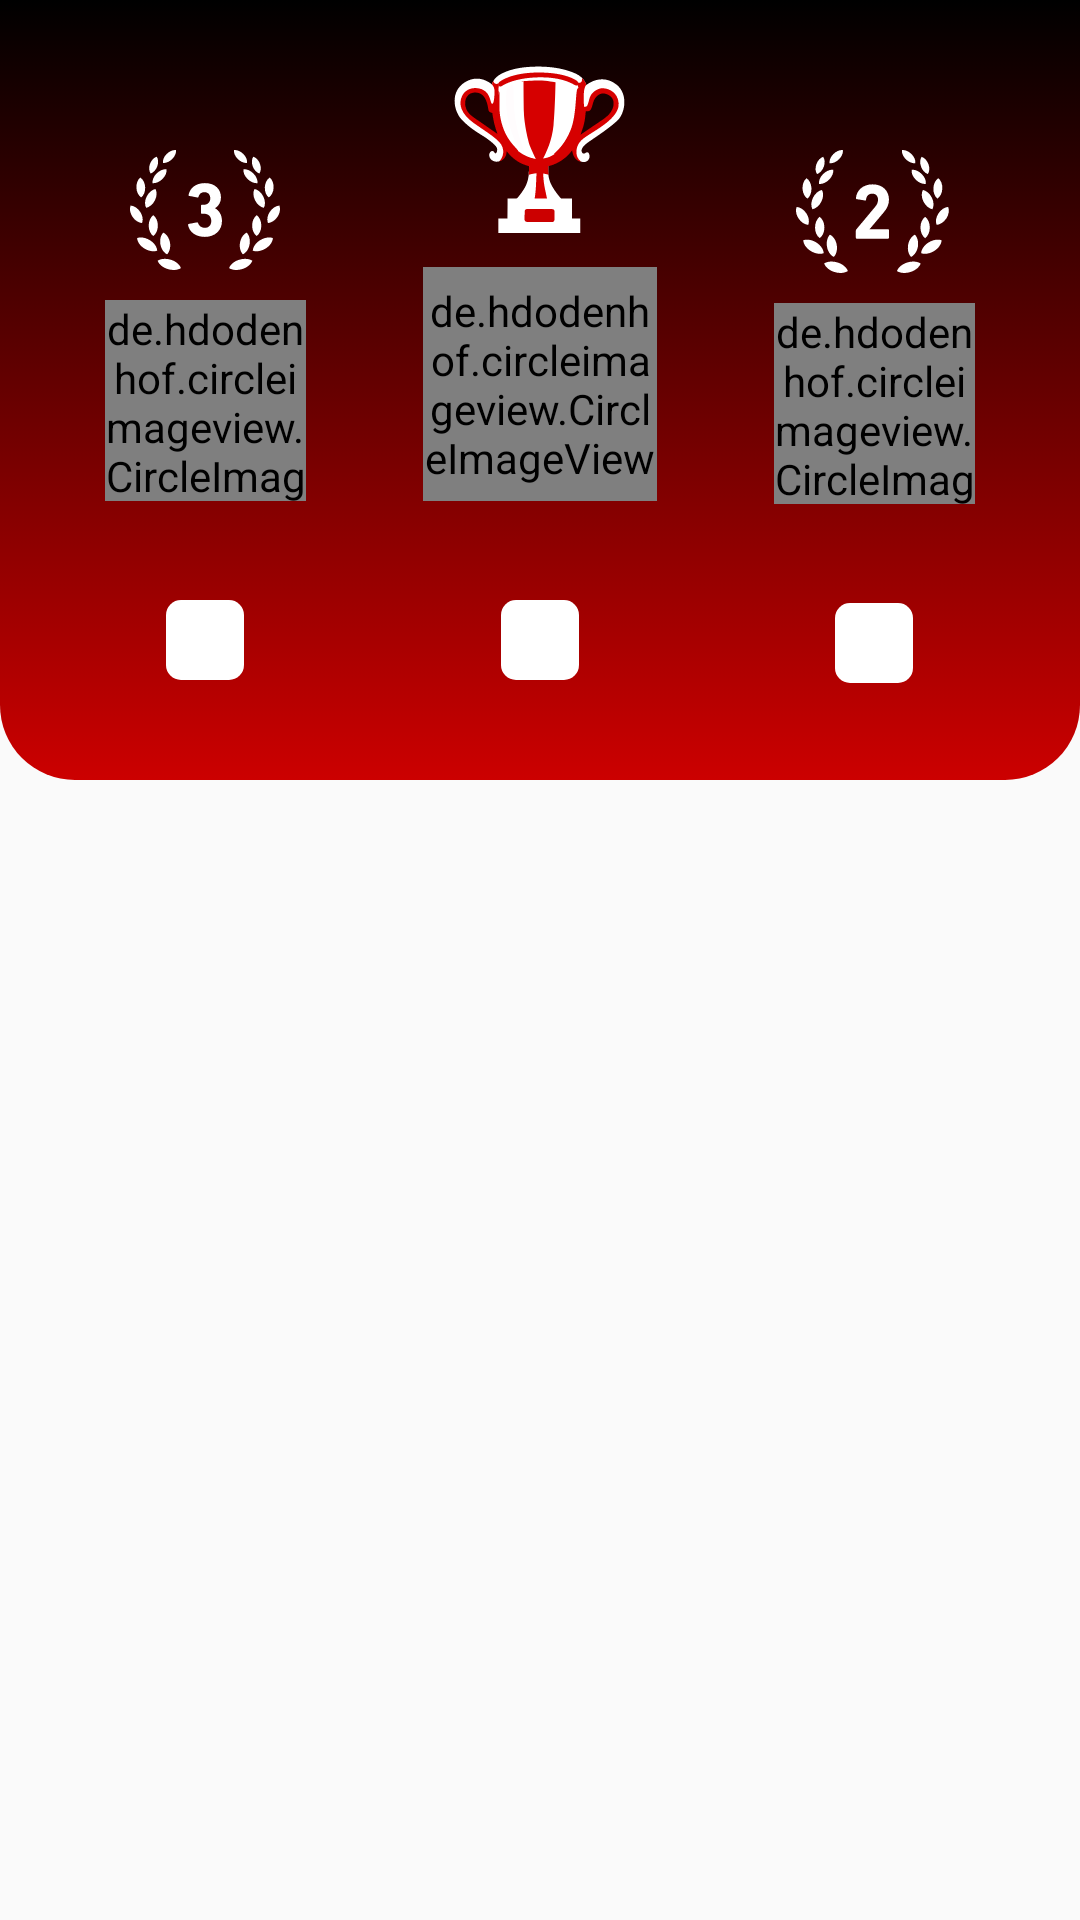

Screen size 1080×1920. Icon name, then its center in pixels as (x=x, y=y):
trophy: (x=540, y=150)
